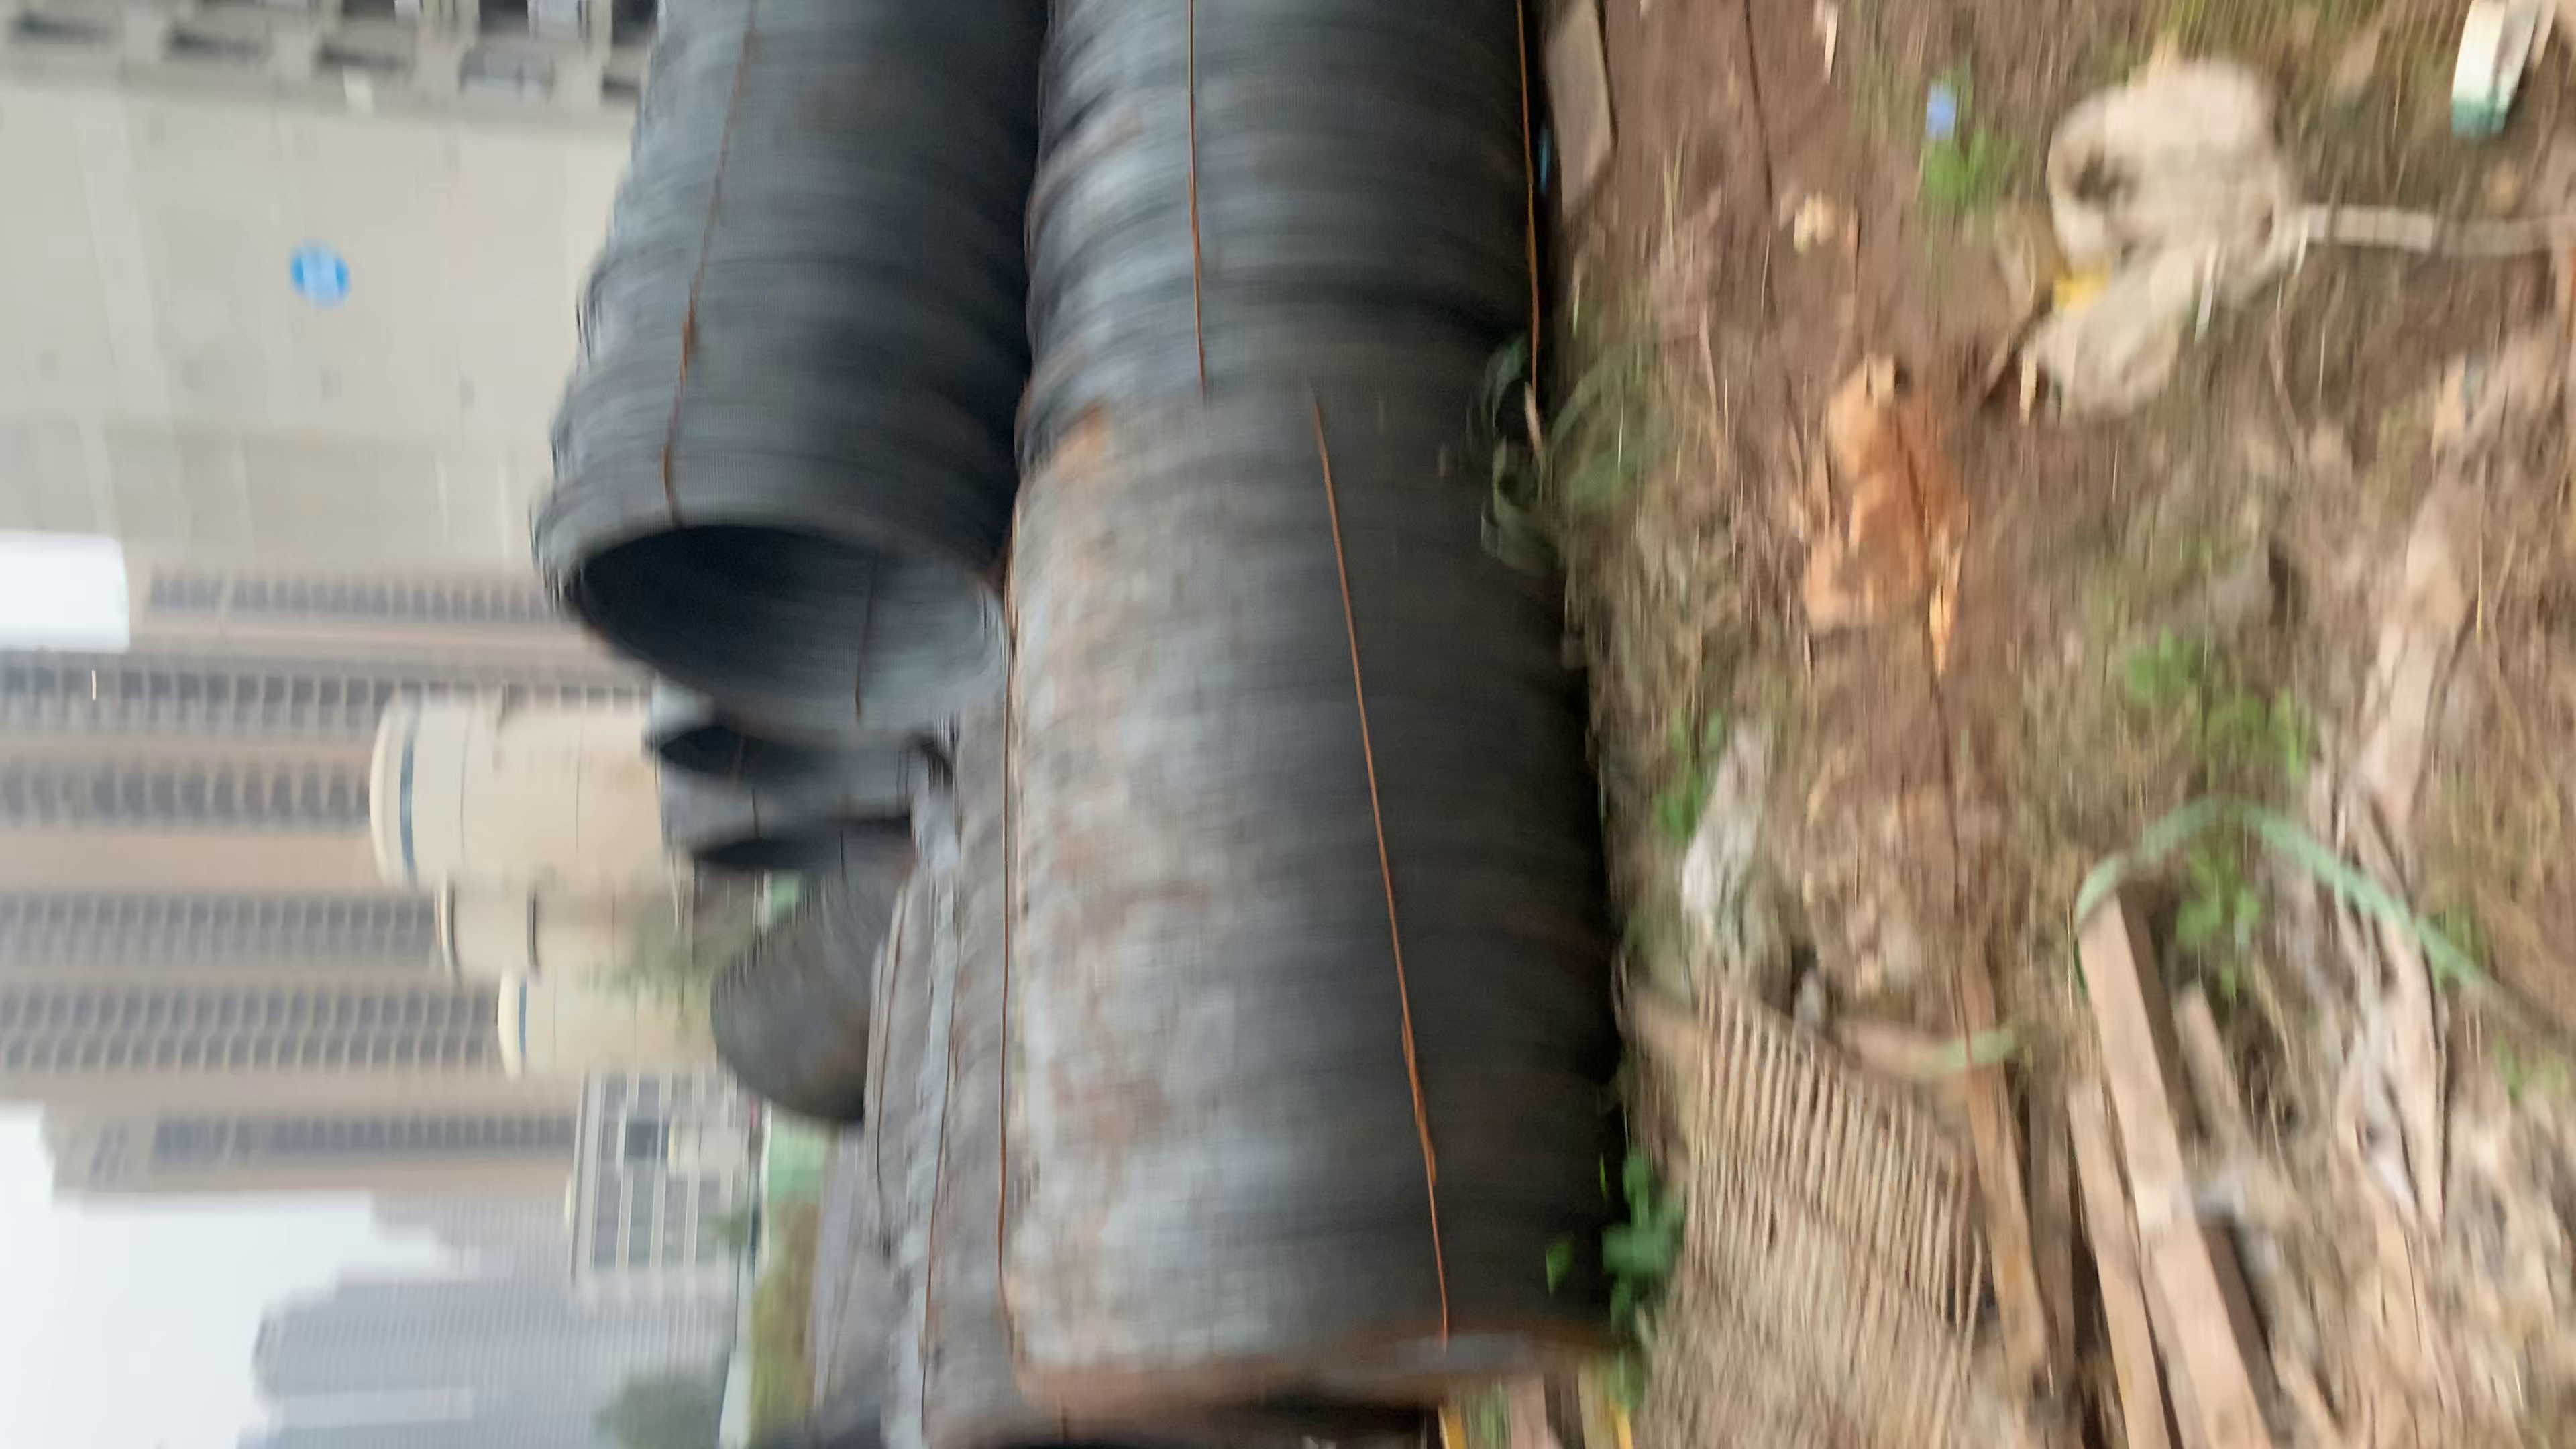coil: (543, 499, 1028, 748), (996, 1284, 1619, 1412), (632, 718, 941, 823), (658, 819, 945, 890)
